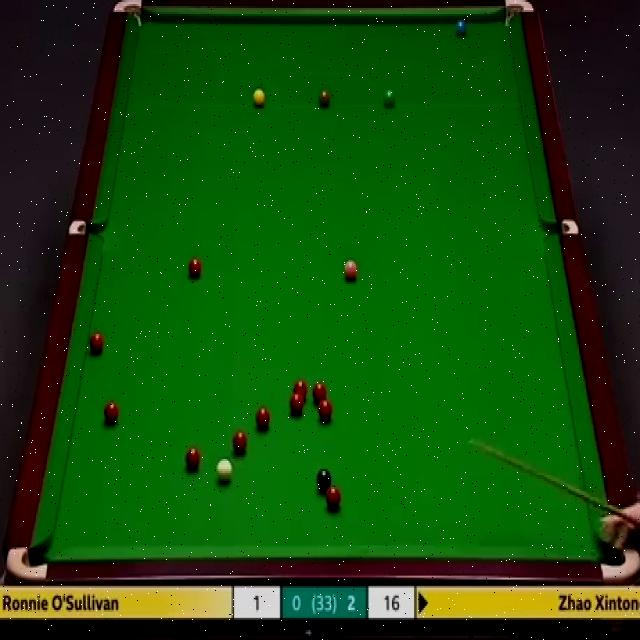black-ball: (316, 467, 334, 493)
blue-ball: (456, 19, 468, 40)
brown-ball: (318, 89, 330, 108)
green-ball: (382, 89, 395, 108)
pink-ball: (344, 262, 358, 284)
red-ball: (185, 444, 202, 473), (89, 333, 105, 358), (232, 430, 247, 456), (255, 404, 270, 429), (105, 399, 120, 424), (290, 394, 306, 416), (326, 486, 341, 509), (292, 379, 308, 399), (313, 382, 327, 403), (317, 398, 331, 419), (188, 260, 202, 278)
white-ball: (215, 457, 234, 485)
yellow-ball: (252, 89, 266, 108)
